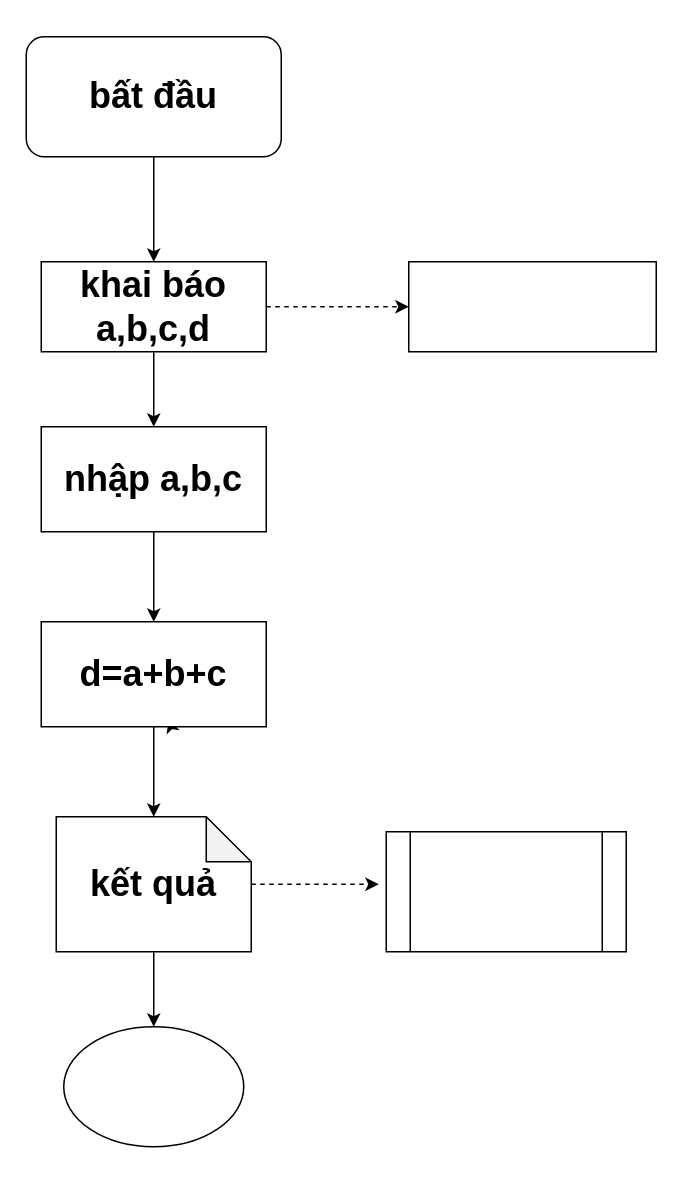
Some shapes in this 683 by 1185 pixel diagram are drawn without their labels. Each missing label, with the centre of its shape:
"cin>>a>>b>>c" goes at point (531, 306).
"cout<<d" goes at point (505, 891).
"kết thúc" goes at point (153, 1086).
